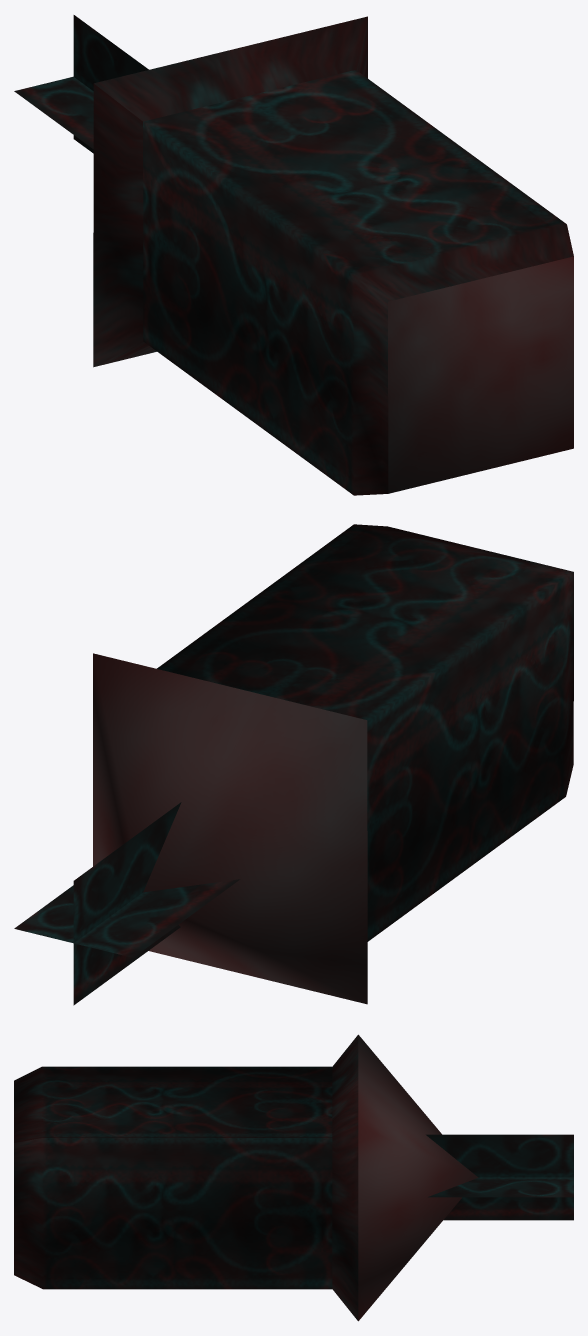
Rendered from Latern.fbx.
3 views of the same model, one above another, from view 1: azimuth 30°, elevation 25°; view 2: azimuth 150°, elevation 25°; view 3: azimuth 270°, elevation 25° (orthographic). The views are drawn at different scales.
Visible parts, largest first — view 1: Latern; view 2: Latern; view 3: Latern.
Part boxes in pixels (bbox=[...]): Latern: bbox=[14, 15, 573, 495]; Latern: bbox=[14, 524, 573, 1005]; Latern: bbox=[14, 1034, 573, 1321].
Size of the model in its own units: 0.7238 by 0.715 by 1.86.
